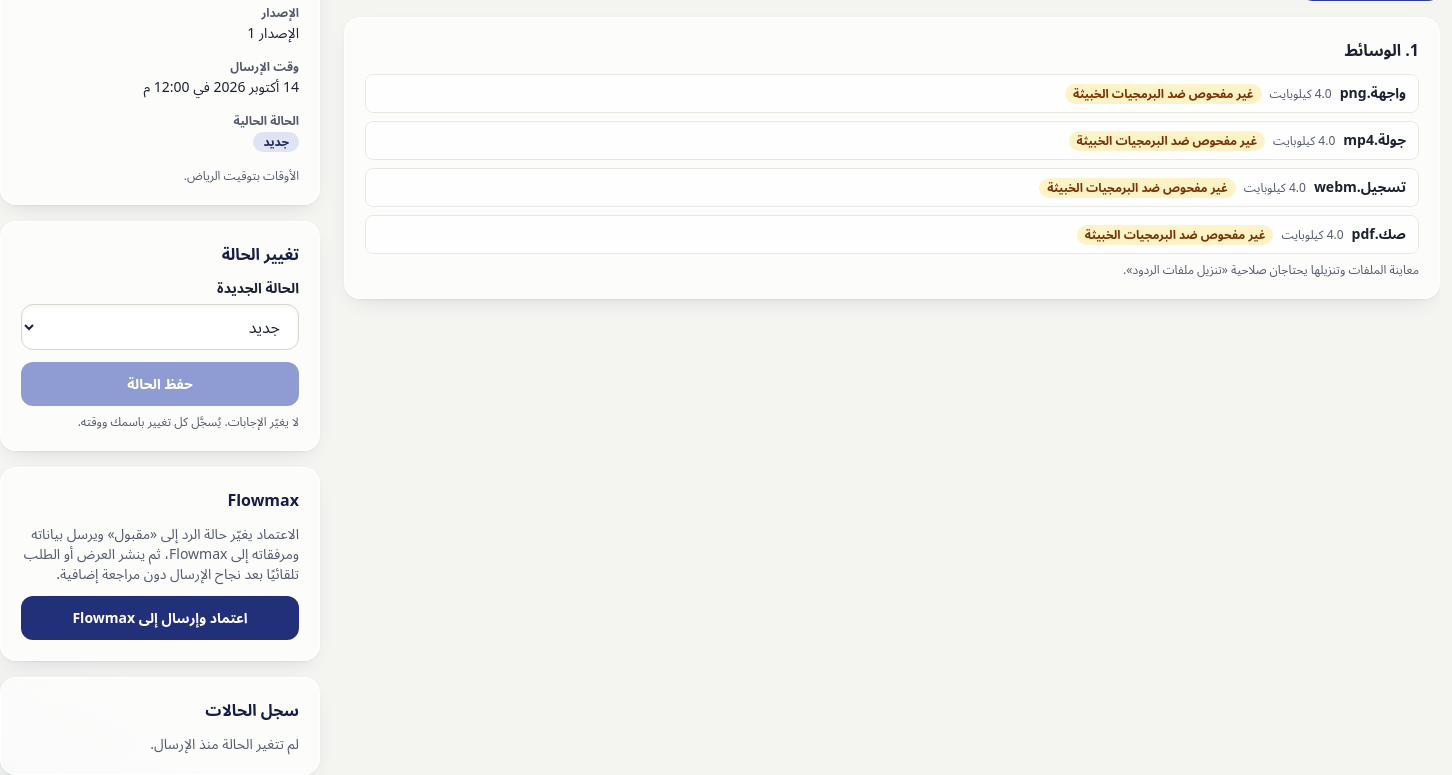
Test case: اعتماد مرفوض من الخادم: رسائل عربية لكل حقل
(page scrolled)
Click the button "اعتماد وإرسال إلى Flowmax" at (160, 618), box x1=21 y1=596 x2=299 y2=640
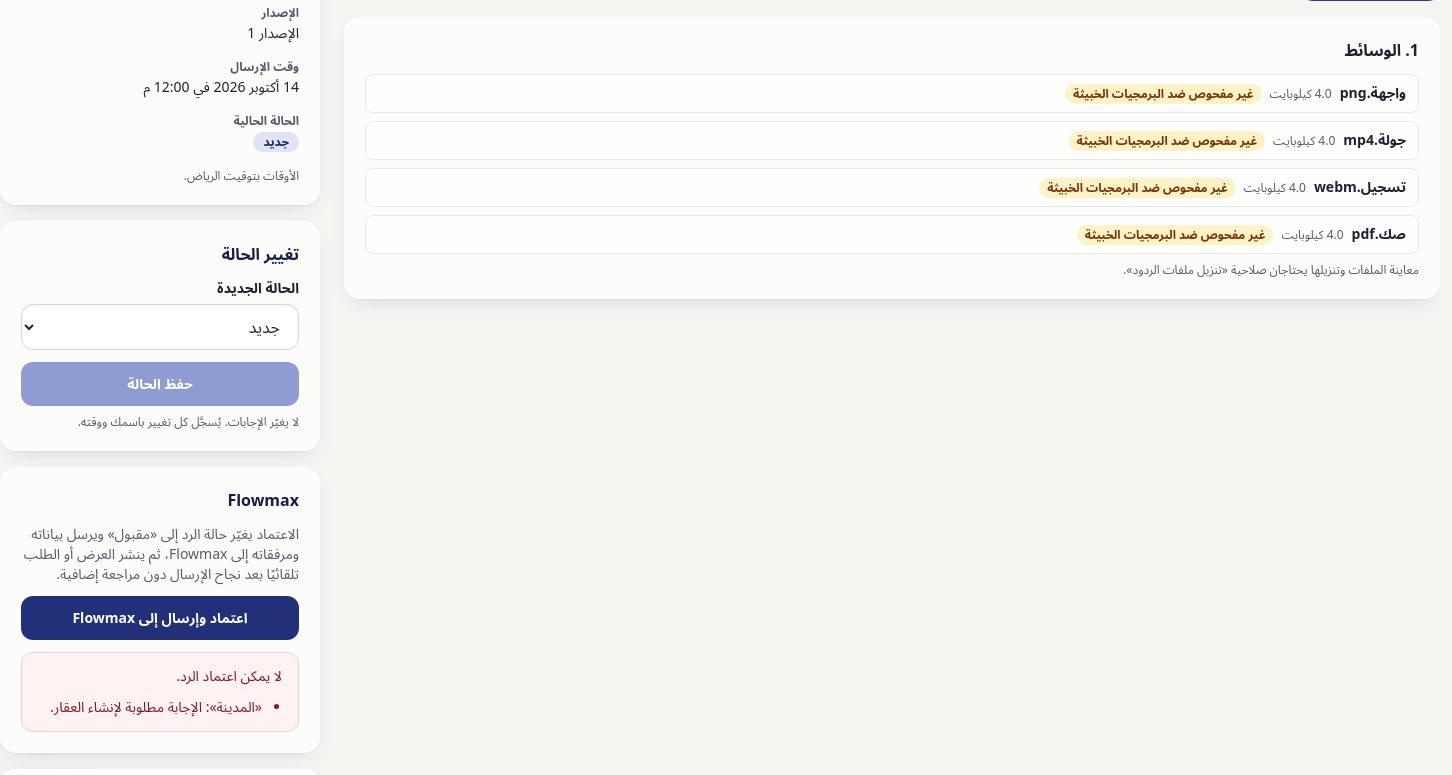
Expected: the list item "«المدينة»: الإجابة مطلوبة لإنشاء العقار." is shown, x1=50 y1=696 x2=262 y2=719
